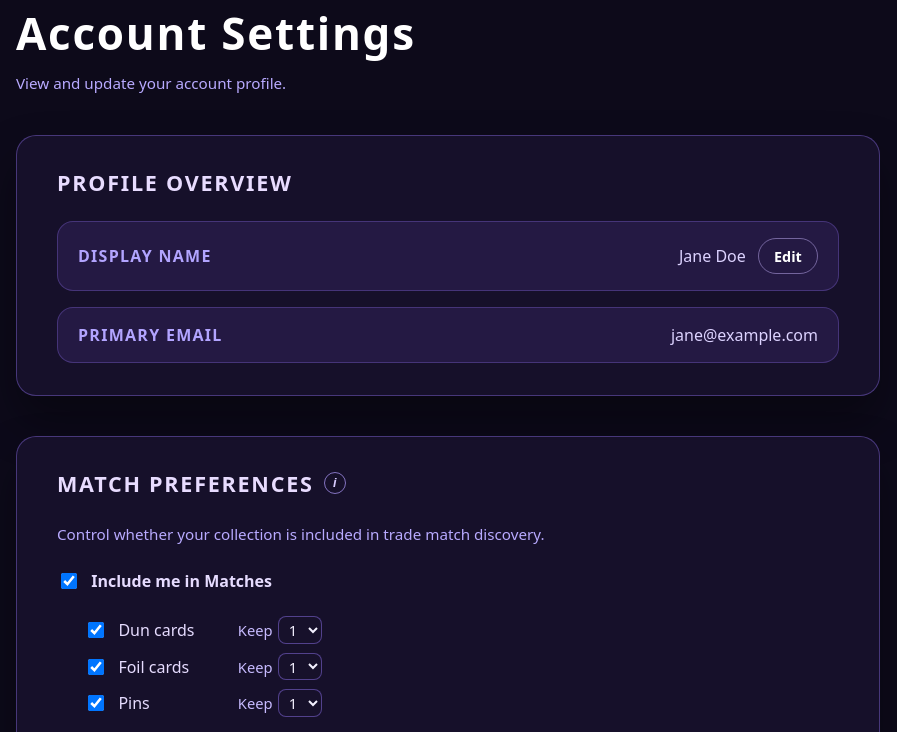
AccountPage › keeps the editor open when saving the display name fails
Click the button "Edit". click: (788, 256)
box: [758,238,818,274]
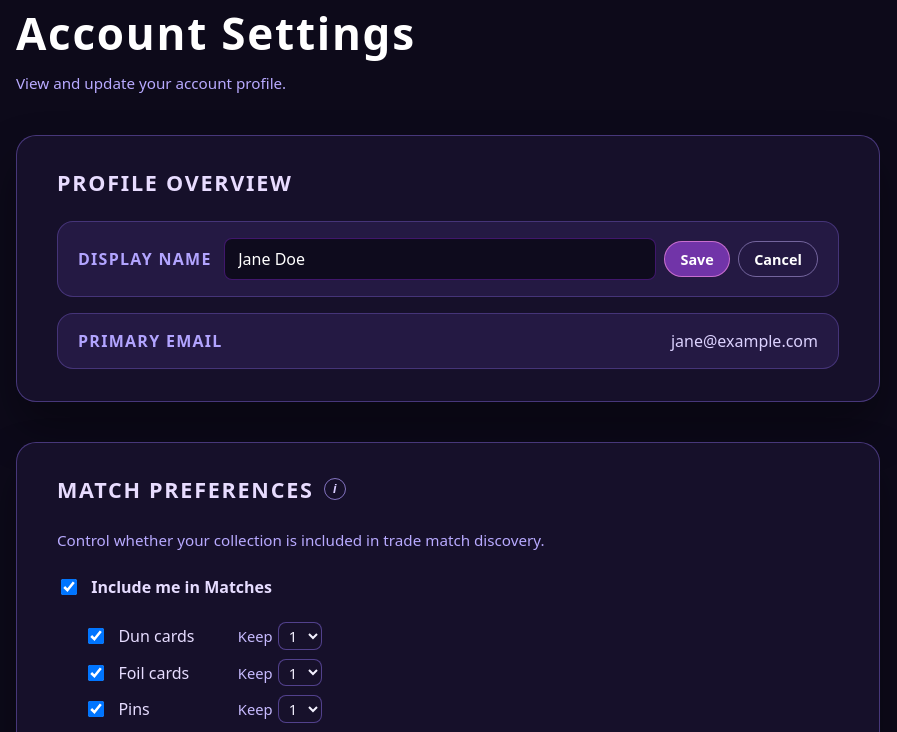
Replace the text in the field labelled "Display name" with "Jane Smith". click: (440, 259)
box: [224,238,656,280]
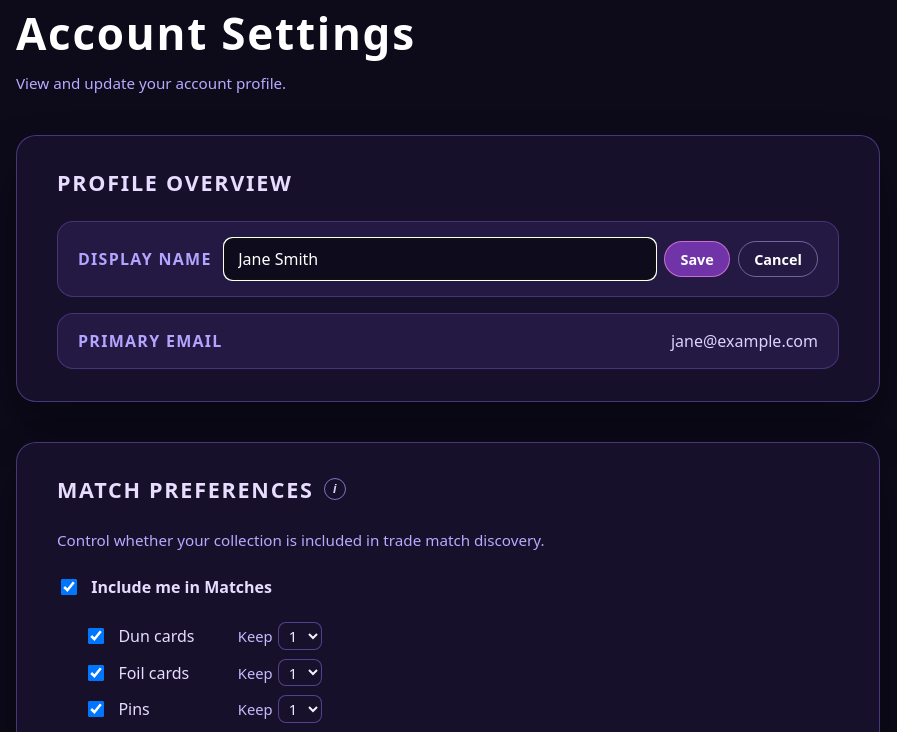
Click the button "Save". click: (697, 259)
box: [664,241,730,277]
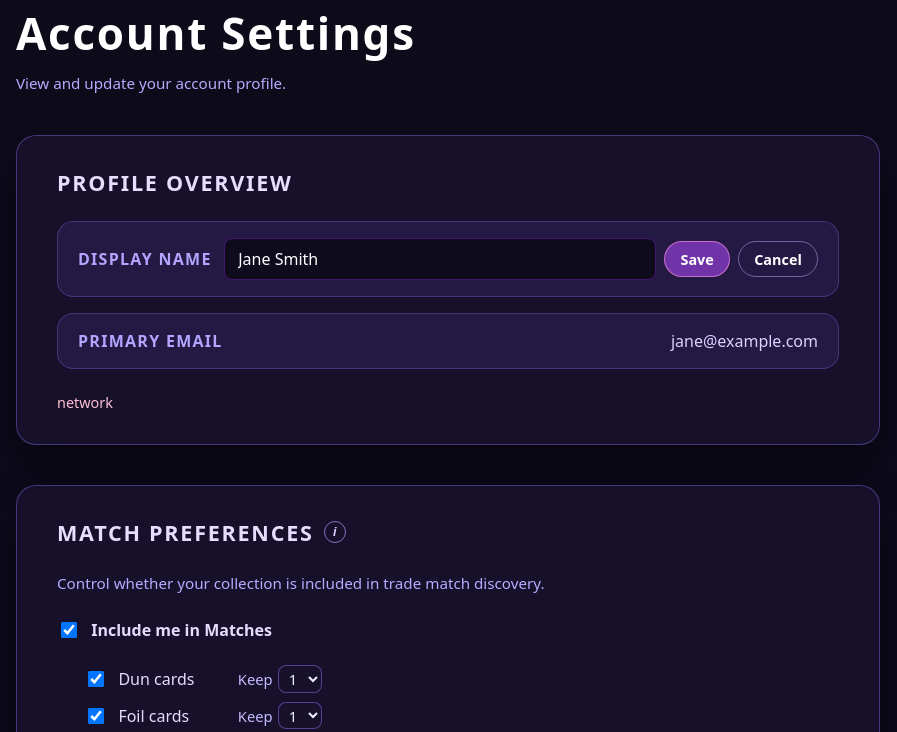
Expected: the text "network" is shown, [57,393,113,412]
